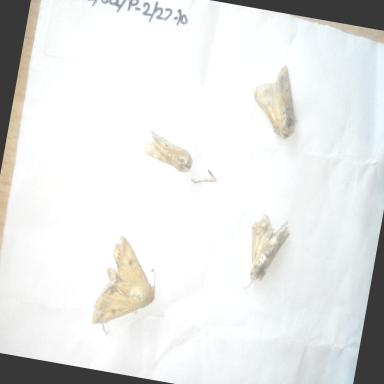abw: (84, 229, 170, 347), (244, 56, 308, 142), (237, 207, 296, 298), (138, 124, 201, 180)
